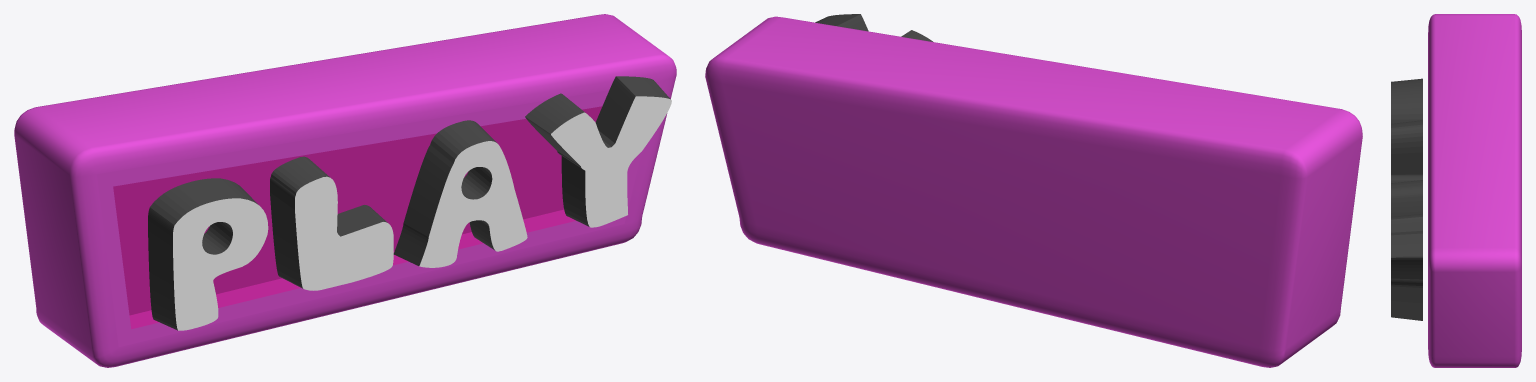
The model's file is BotonPlay.FBX.
3 renders of one model, left to right at view 1: azimuth 30°, elevation 25°; view 2: azimuth 150°, elevation 25°; view 3: azimuth 270°, elevation 25°, orthographic. The views are drawn at different scales.
Parts seen in each view (by area): view 1: Text001; view 2: Text001; view 3: Text001.
Boxes of the visible parts, <box> form: Text001: <box>14,14,676,367</box>; Text001: <box>705,14,1362,367</box>; Text001: <box>1391,14,1521,367</box>.
Size of the model in its own units: 42.43 by 15.01 by 10.95.
